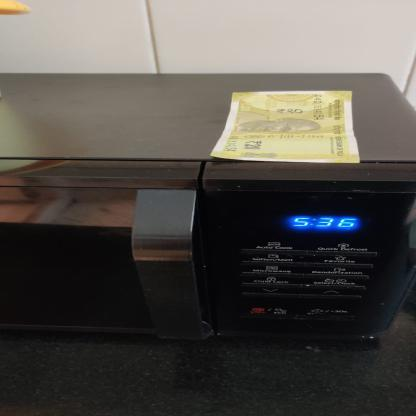New20Front: (207, 91, 370, 165)
